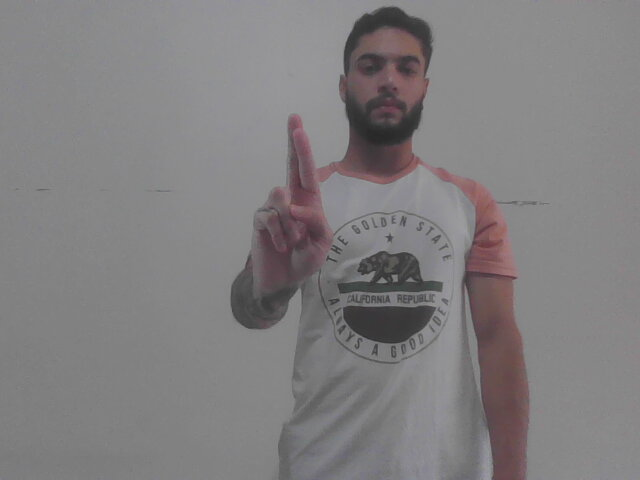r: (246, 107, 337, 290)
